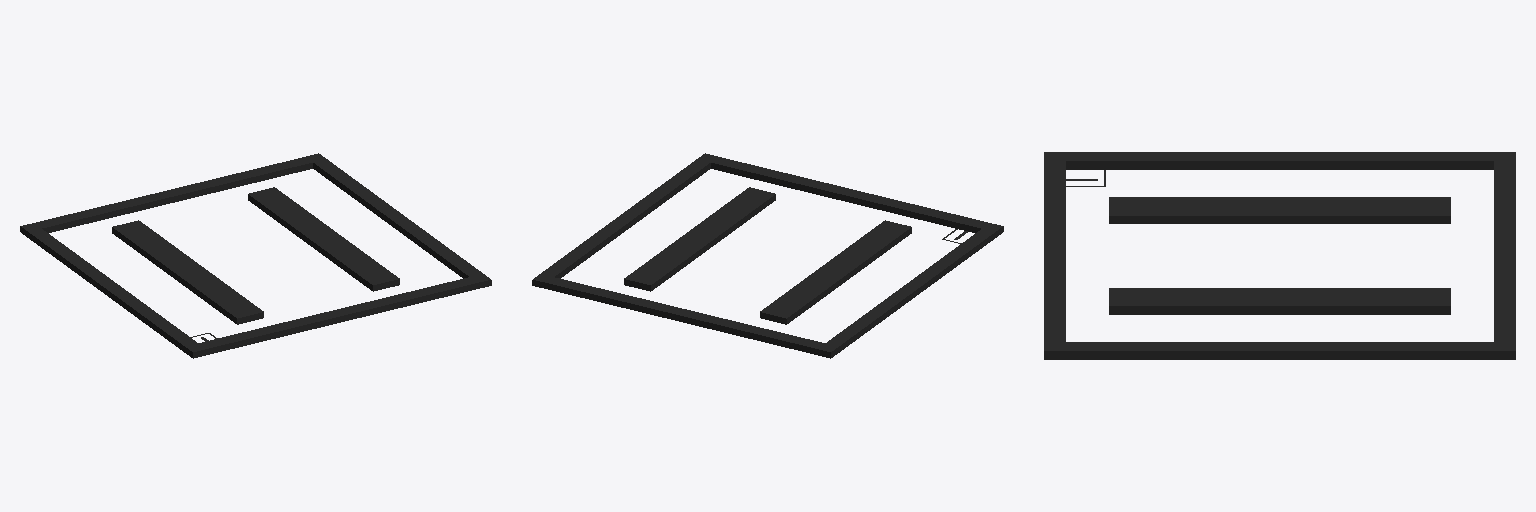
URDF robot description (Room47):
<robot name="Room47">
    <link name="_name">
        <visual> 
            <origin rpy="0.0 0.0 0.0" xyz="-0.5012685738783541 -0.49873008513445954 -0.009999999999999997" />
                <geometry>
                    <mesh filename="Room47/Room47.obj" scale="1 1 0.1" />
                </geometry>

            <material name="black">
                <color rgba="0.2 0.2 0.2 0.95" />
            </material>
        </visual>

       <collision concave="yes" name="collision_0">
            <origin rpy="0.0 0.0 0.0" xyz="-0.5012685738783541 -0.49873008513445954 -0.009999999999999997" />
            <geometry>
                <mesh filename="Room47/Room47_vhacd.obj" scale="1 1 0.1" />
            </geometry>
        </collision>

        <inertial> 
            <mass value="0" />
            <inertia ixx="0" ixy="0" ixz="0" iyy="0" iyz="0" izz="0" />
        </inertial> 
    </link>
</robot>

--- What the picture shows (computed from the rendered views, not written in the file) ---
The picture shows the robot from 3 angles, left to right: view 1: azimuth 30°, elevation 25°; view 2: azimuth 150°, elevation 25°; view 3: azimuth 270°, elevation 25°; orthographic projection.
Robot: Room47 — 1 links, 0 joints (none); root link _name; default pose: every joint at zero.
Visible links, largest first — view 1: _name; view 2: _name; view 3: _name.
Boxes of the visible links, bbox=[...] form: _name: bbox=[20, 153, 491, 358]; _name: bbox=[532, 153, 1003, 358]; _name: bbox=[1044, 152, 1515, 359].
Size in the robot's own frame: 1 by 1 by 0.02 metres.
Meshes: 1 distinct files referenced, 1 mesh visuals loaded (1 OBJ).